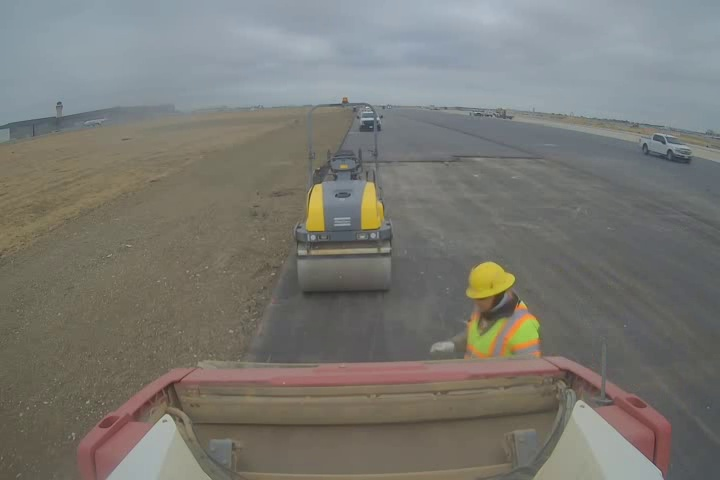person: (428, 259, 546, 376)
vehicle: (72, 351, 671, 480), (293, 102, 394, 293), (635, 127, 697, 163), (351, 108, 385, 130)
vest: (453, 296, 542, 362)
yellow_helmet: (464, 260, 521, 322)
